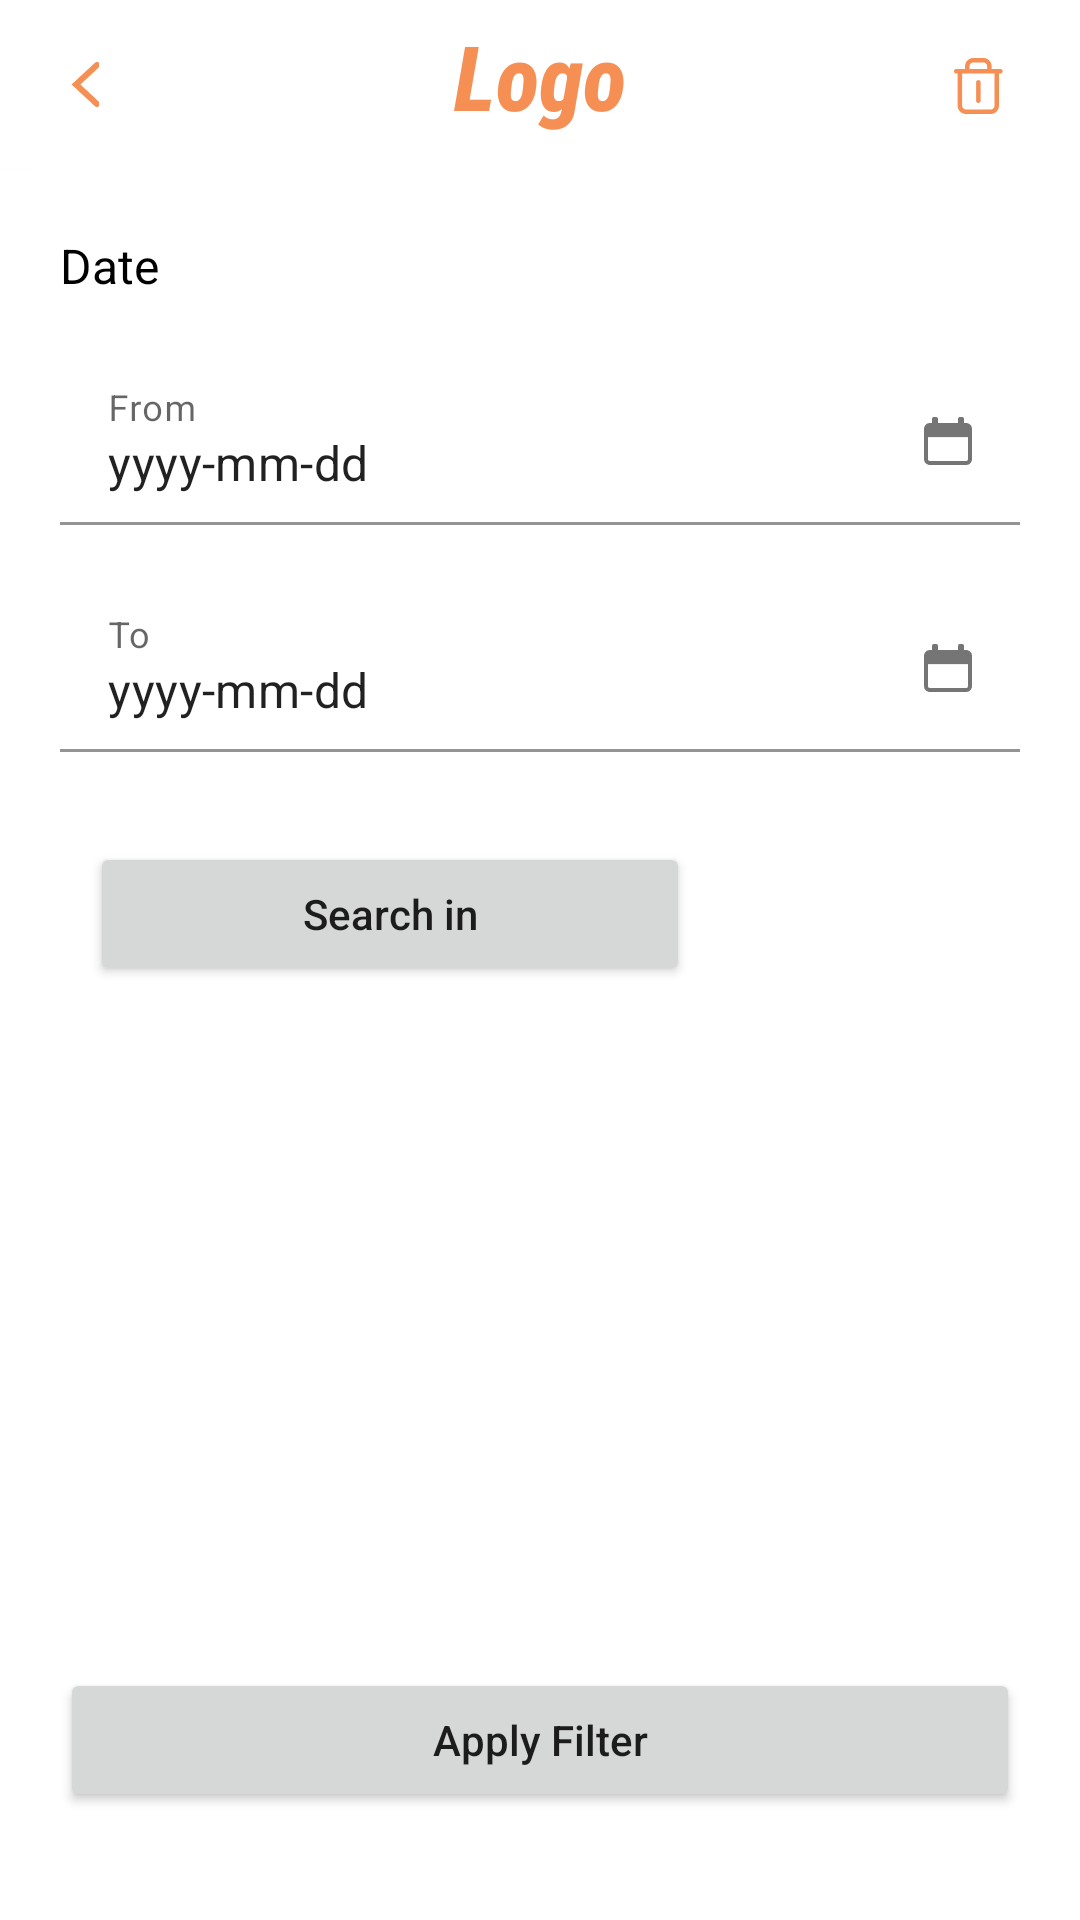

Where to tap for icons on this 1080*1920 app screen, as point (x, y):
clear: point (978, 86)
